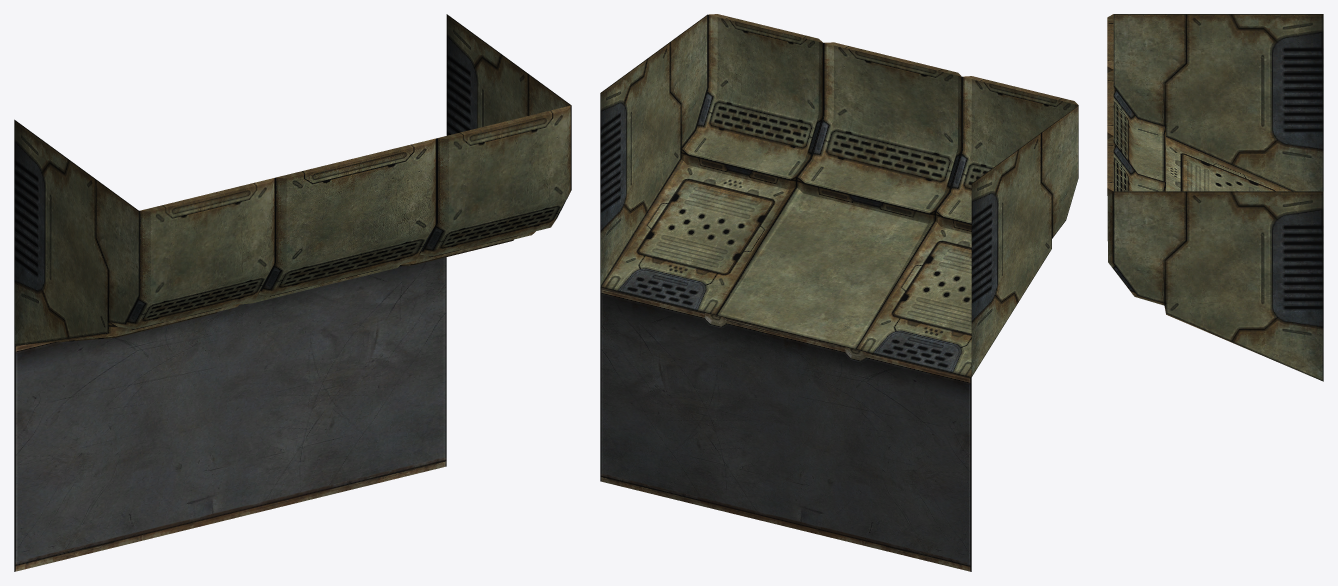
The model's file is datasite_concave_top02.dae.
3 renders of one model, left to right at view 1: azimuth 30°, elevation 25°; view 2: azimuth 150°, elevation 25°; view 3: azimuth 270°, elevation 25°, orthographic. The views are drawn at different scales.
Parts seen in each view (by area): view 1: polySurface97, polySurface104; view 2: polySurface104, polySurface97; view 3: polySurface104.
Boxes of the visible parts, x1,y1,x2,y2 form: polySurface97: (14, 257, 446, 571); polySurface104: (14, 14, 571, 345); polySurface104: (600, 14, 1078, 377); polySurface97: (600, 287, 971, 571); polySurface104: (1107, 14, 1323, 381).
Bounding box in the file's own units: 4 × 4 × 2.06.
